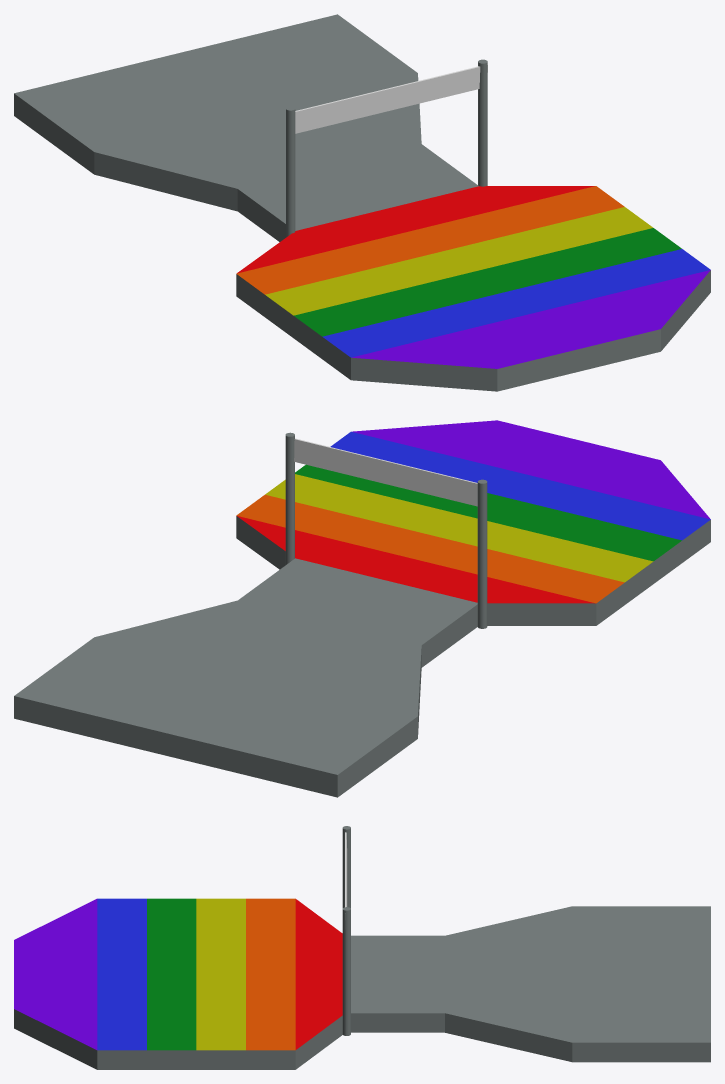
The model's file is finish-plat 1.fbx.
The picture shows the model from 3 angles, top to bottom: view 1: azimuth 30°, elevation 25°; view 2: azimuth 150°, elevation 25°; view 3: azimuth 270°, elevation 25°; orthographic projection. The views are drawn at different scales.
Parts seen in each view (by area): view 1: finish-plat; view 2: finish-plat; view 3: finish-plat.
Part boxes in pixels (bbox=[...]): finish-plat: bbox=[14, 14, 710, 391]; finish-plat: bbox=[14, 420, 710, 797]; finish-plat: bbox=[14, 826, 710, 1069].
Bounding box in the file's own units: 3331 × 1287 × 6463.
